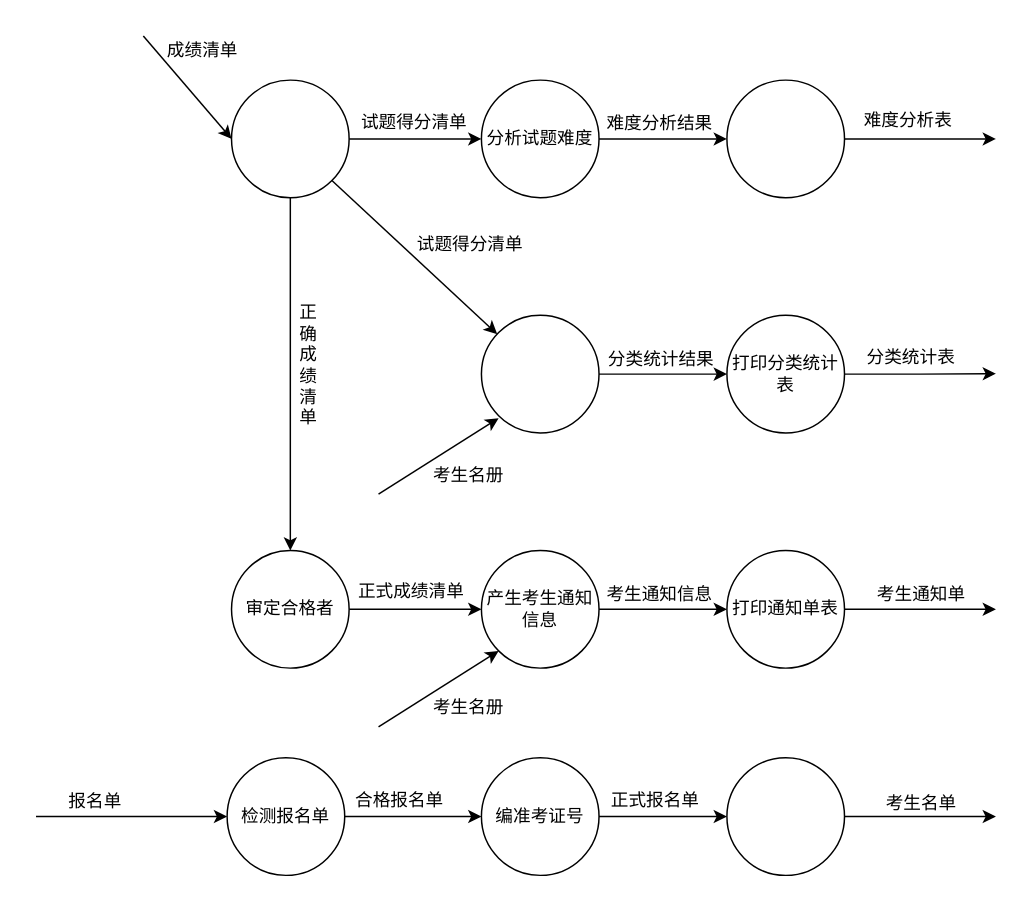
Some shapes in this 1033 by 901 pixel diagram are drawn without their labels. The centre of each missing label's shape, as x and y in pixels:
分类统计成绩: [539,373]
打印难度分析表: [785,138]
检查成绩清单: [289,138]
汇总考生: [785,815]
